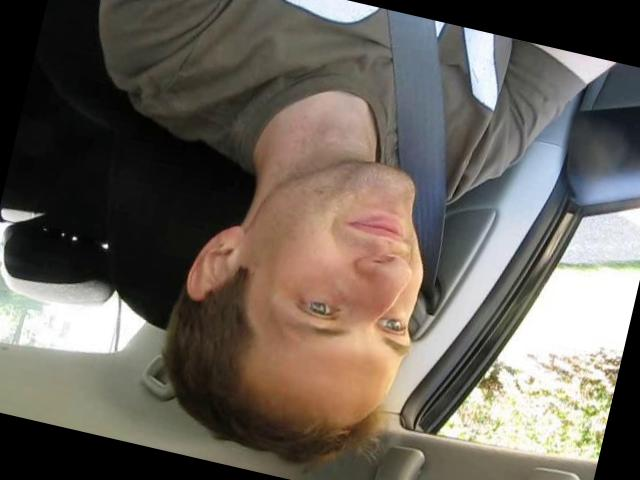eye_open: (290, 286, 346, 326), (372, 311, 408, 340)
face: (250, 143, 452, 381)
